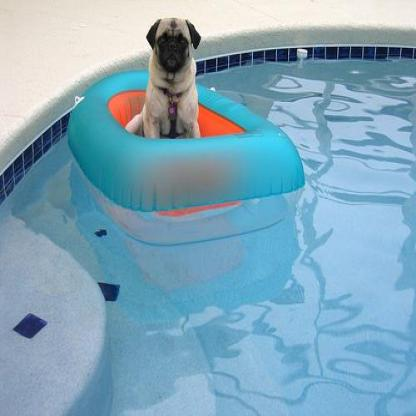pug: (122, 15, 202, 138)
